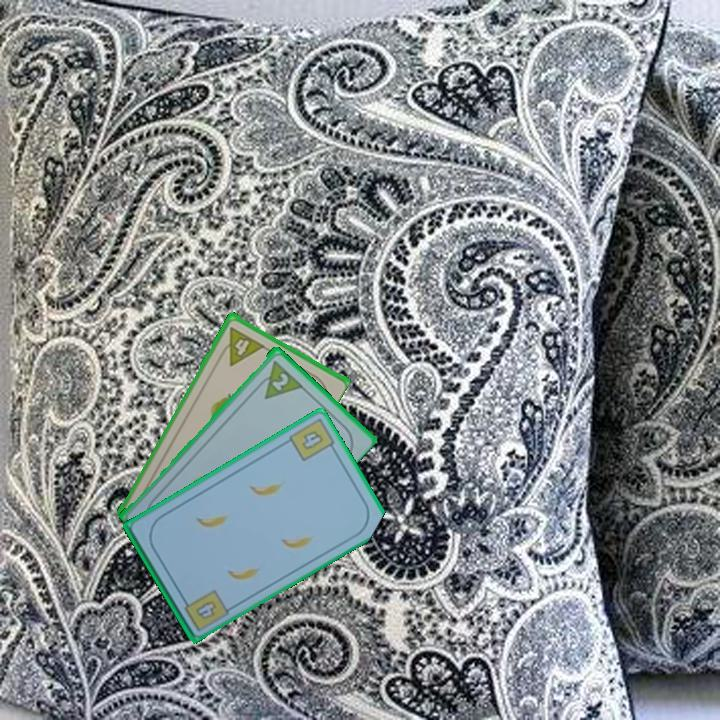2p: (251, 356, 305, 402)
4b: (285, 415, 339, 464), (192, 596, 220, 622)
4p: (215, 323, 266, 368)
